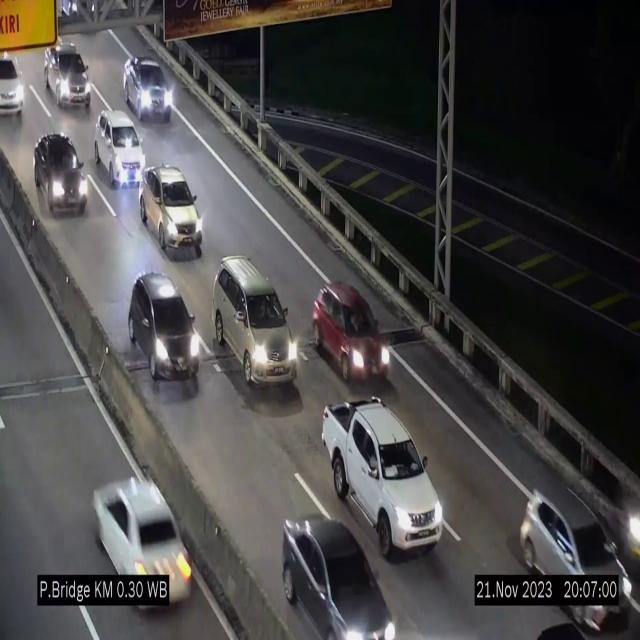Car: (515, 468, 633, 638), (323, 399, 443, 557), (82, 465, 202, 623), (282, 517, 396, 639), (212, 250, 298, 394), (128, 269, 200, 394), (313, 279, 391, 385), (140, 164, 202, 256), (32, 133, 92, 214), (94, 110, 146, 186), (0, 30, 36, 129), (45, 43, 93, 113), (124, 56, 173, 120)
Motorcycle: (610, 471, 640, 560)
